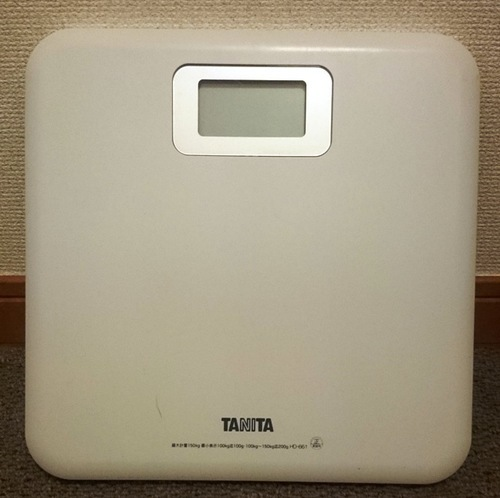LCD: (197, 78, 308, 140)
